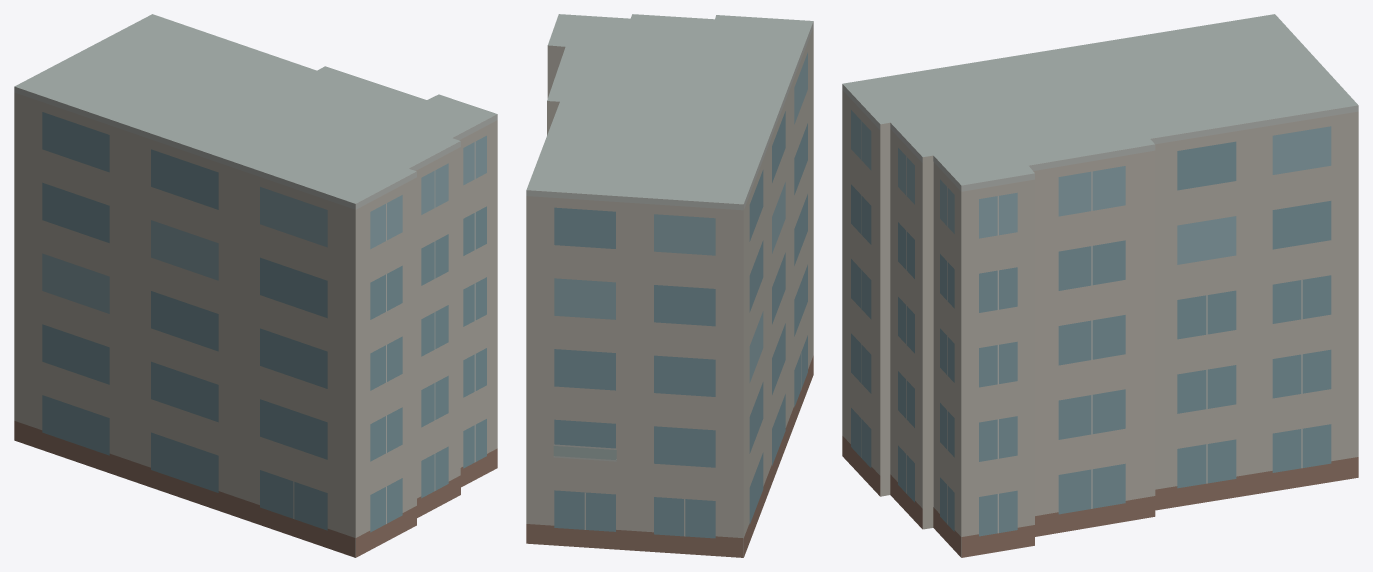
File: survey-upis-32878349.glb
The picture shows the model from 3 angles, left to right: view 1: azimuth 30°, elevation 25°; view 2: azimuth 150°, elevation 25°; view 3: azimuth 270°, elevation 25°; orthographic projection. The views are drawn at different scales.
Visible parts, largest first — view 1: survey-upis-32878349.tmp; view 2: survey-upis-32878349.tmp; view 3: survey-upis-32878349.tmp.
Part boxes in pixels (x1,y1,x2,y2): survey-upis-32878349.tmp: [14, 14, 497, 557]; survey-upis-32878349.tmp: [526, 14, 813, 557]; survey-upis-32878349.tmp: [842, 14, 1358, 557].
Size of the model in its own units: 14.44 by 14.6 by 18.36.
